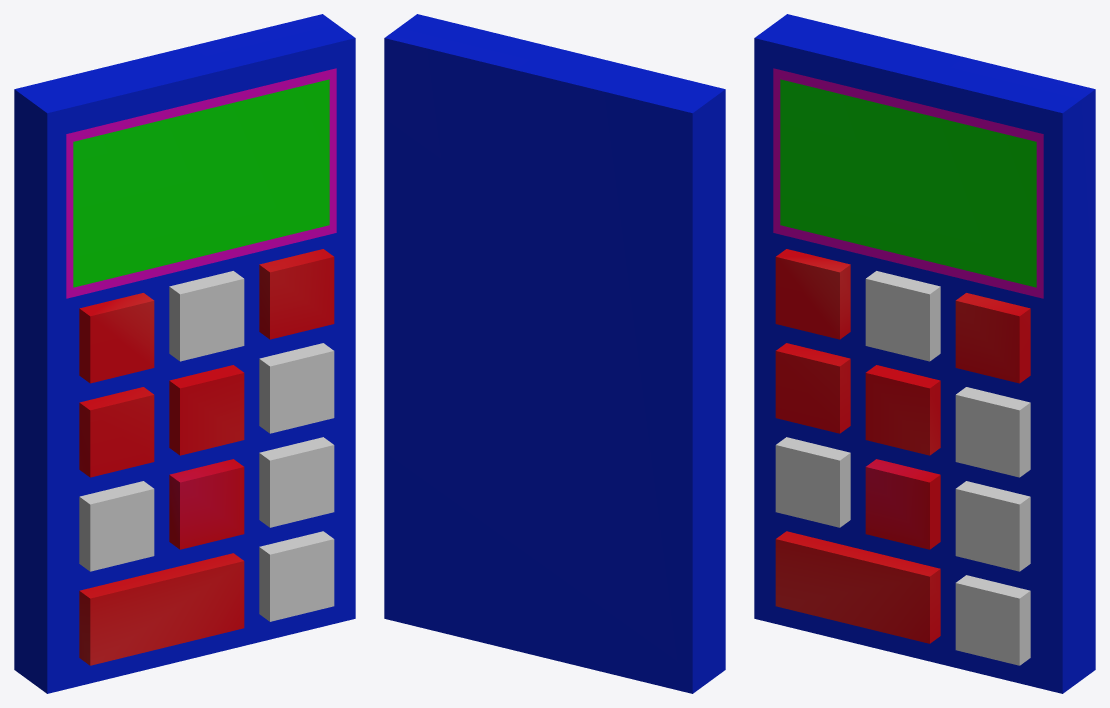
File: keyPad.fbx
3 views of the same model, side by side, from view 1: azimuth 30°, elevation 25°; view 2: azimuth 150°, elevation 25°; view 3: azimuth 330°, elevation 25° (orthographic).
Parts seen in each view (by area): view 1: Base, ENTER, 6, 5, 2, 1, RESET, 7, 8, 9, 3, 4; view 2: Base; view 3: Base, ENTER, 5, 4, 3, 2, RESET, 7, 8, 9, 1, 6.
Part boxes in pixels (x1,y1,x2,y2): Base: (14, 14, 355, 693); ENTER: (79, 553, 244, 665); 6: (259, 343, 334, 433); 5: (169, 365, 244, 455); 2: (169, 459, 244, 549); 1: (79, 481, 154, 571); RESET: (259, 531, 334, 621); 7: (79, 293, 154, 383); 8: (169, 271, 244, 361); 9: (259, 249, 334, 339); 3: (259, 437, 334, 527); 4: (79, 387, 154, 477); Base: (384, 14, 725, 693); Base: (754, 14, 1095, 693); ENTER: (775, 531, 940, 643); 5: (865, 365, 940, 455); 4: (775, 343, 850, 433); 3: (955, 481, 1030, 571); 2: (865, 459, 940, 549); RESET: (955, 575, 1030, 665); 7: (775, 249, 850, 339); 8: (865, 271, 940, 361); 9: (955, 293, 1030, 383); 1: (775, 437, 850, 527); 6: (955, 387, 1030, 477).
Size of the model in its own units: 24 by 43.2 by 5.89.
